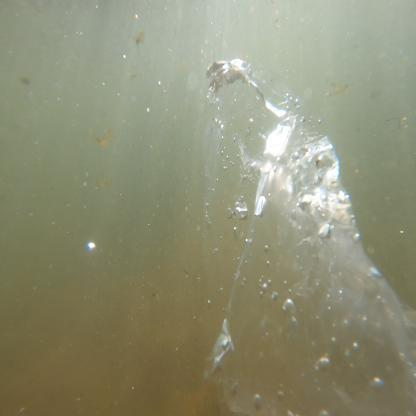Rác: (208, 57, 410, 400)
